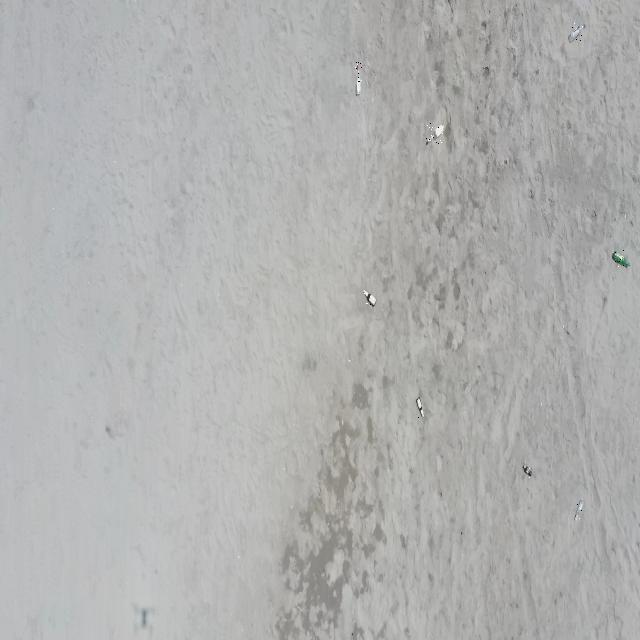glass: (426, 124, 444, 148), (570, 23, 586, 41), (614, 250, 630, 267), (362, 289, 377, 306), (355, 62, 362, 96), (574, 500, 584, 520), (416, 396, 424, 418), (523, 464, 532, 478)
